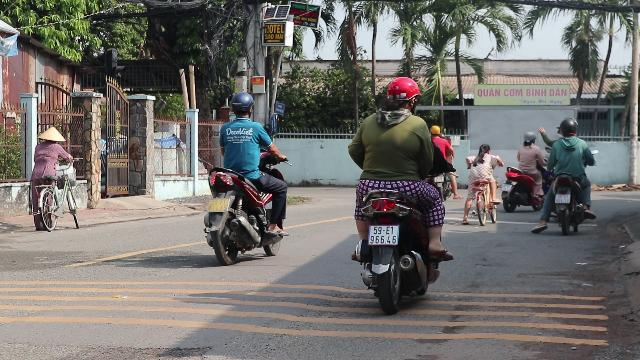helmet: (382, 76, 420, 114), (228, 90, 254, 117), (558, 117, 578, 137)
licenseplate: (369, 226, 399, 244), (207, 198, 230, 212), (556, 194, 570, 202)
motorcyclist: (342, 71, 456, 309), (200, 90, 290, 266), (538, 116, 596, 234)
